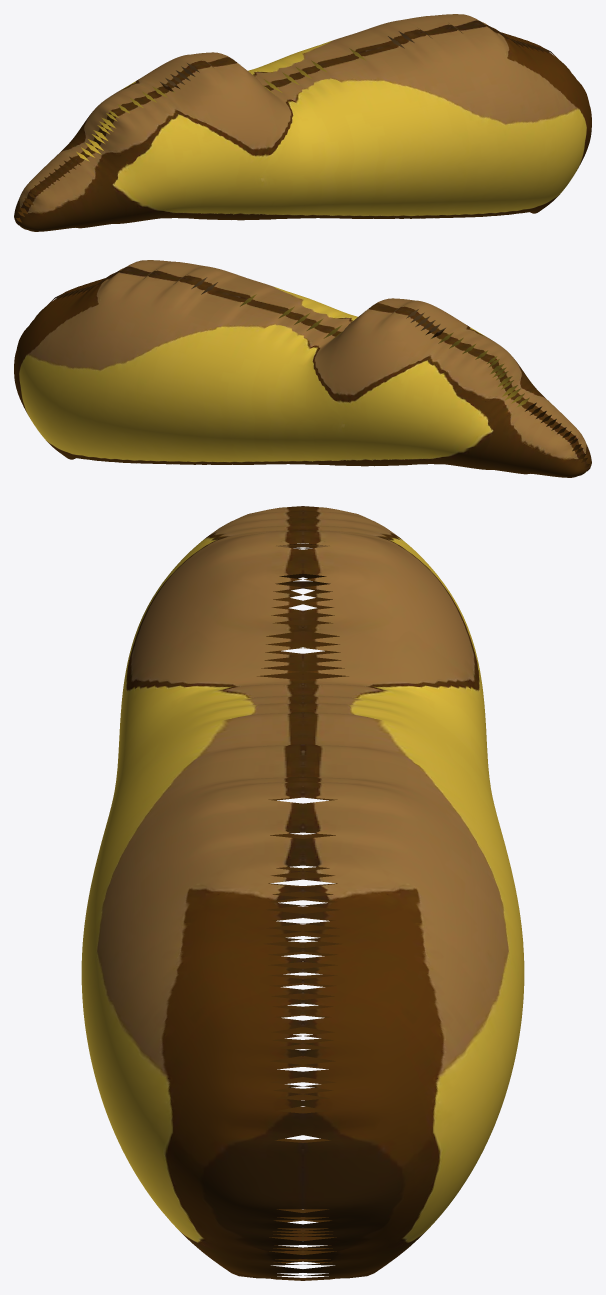
The model's file is gold_boulder.glb.
3 renders of one model, top to bottom at view 1: azimuth 30°, elevation 25°; view 2: azimuth 150°, elevation 25°; view 3: azimuth 270°, elevation 25°, orthographic. The views are drawn at different scales.
Parts seen in each view (by area): view 1: gold_boulder; view 2: gold_boulder; view 3: gold_boulder.
Part boxes in pixels (x1,y1,x2,y2): gold_boulder: [14, 14, 591, 231]; gold_boulder: [14, 260, 591, 477]; gold_boulder: [81, 506, 524, 1280].
Bounding box in the file's own units: 0.9888 × 0.3625 × 0.3389.
1 material, 1 textured.
